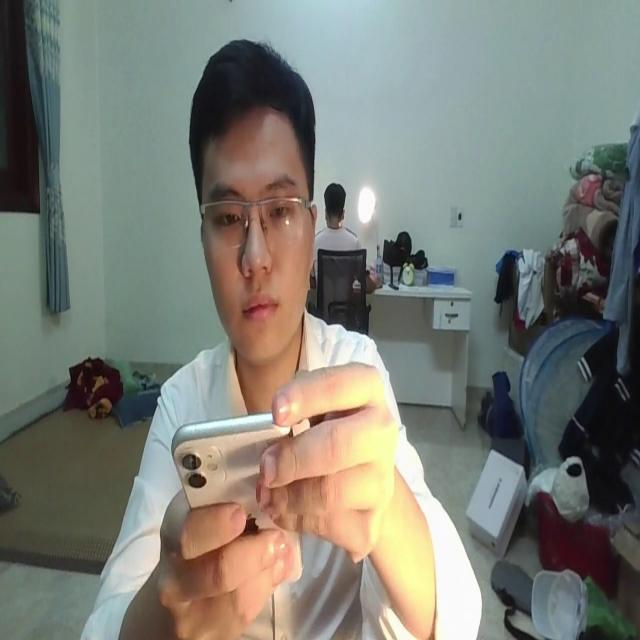phone: (169, 411, 306, 583)
student: (60, 41, 483, 640)
